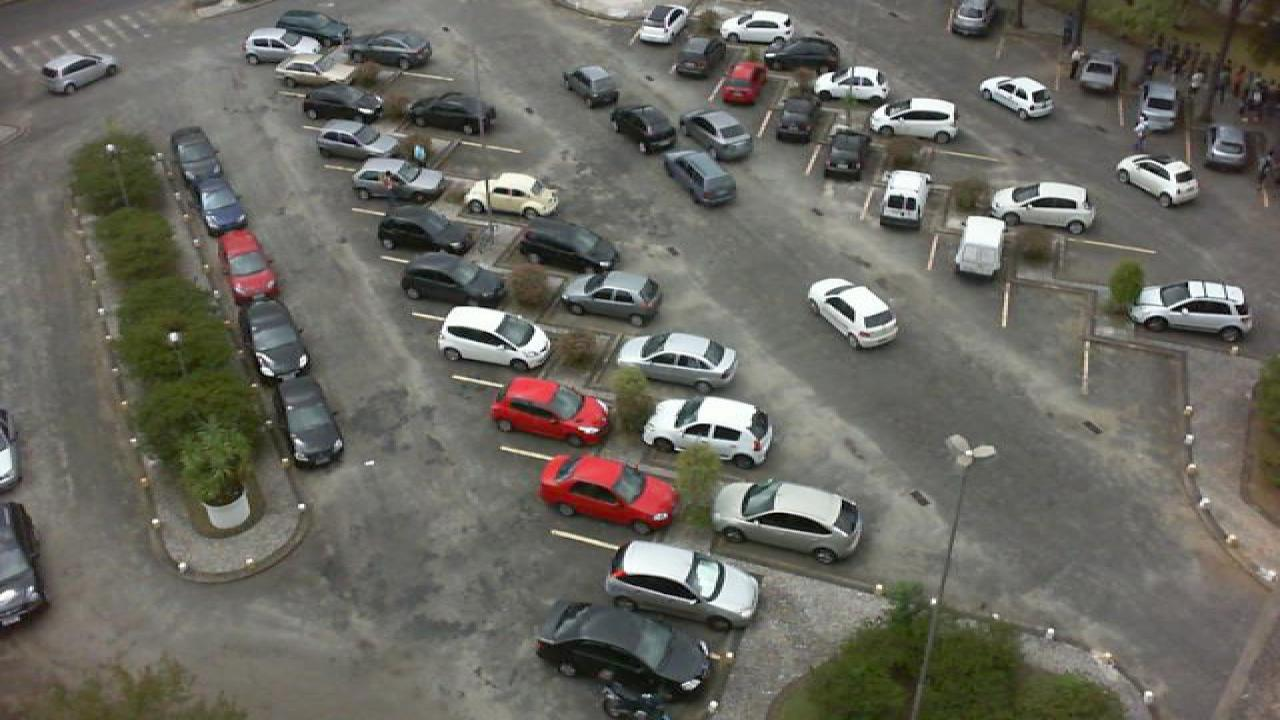Car: (534, 601, 714, 701), (602, 538, 762, 633), (710, 476, 868, 565), (536, 450, 680, 534), (642, 394, 776, 471), (488, 373, 610, 446), (434, 302, 556, 373), (1128, 277, 1256, 343), (612, 330, 742, 393), (274, 370, 346, 467), (504, 215, 624, 273), (986, 179, 1102, 237), (396, 252, 514, 308), (558, 268, 664, 326), (240, 296, 314, 379), (372, 204, 476, 256), (460, 170, 562, 219), (868, 96, 966, 145), (214, 229, 280, 300), (346, 158, 446, 204), (402, 90, 498, 135), (314, 118, 404, 162), (270, 49, 366, 88), (192, 171, 252, 233), (876, 168, 934, 232), (298, 81, 386, 121), (346, 30, 434, 70), (168, 126, 228, 184), (240, 25, 322, 65), (814, 65, 890, 108), (758, 34, 844, 70), (718, 9, 798, 45), (274, 9, 352, 45), (1068, 46, 1128, 92), (826, 127, 876, 182), (672, 32, 728, 80), (1134, 79, 1182, 134), (714, 60, 770, 106), (1200, 122, 1256, 168), (638, 1, 692, 45), (944, 0, 1000, 38), (772, 96, 818, 142)
